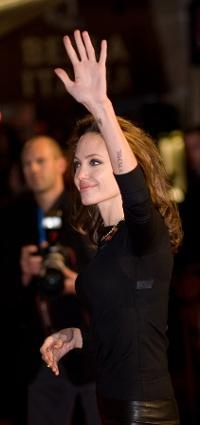person without safety: (50, 107, 192, 358)
